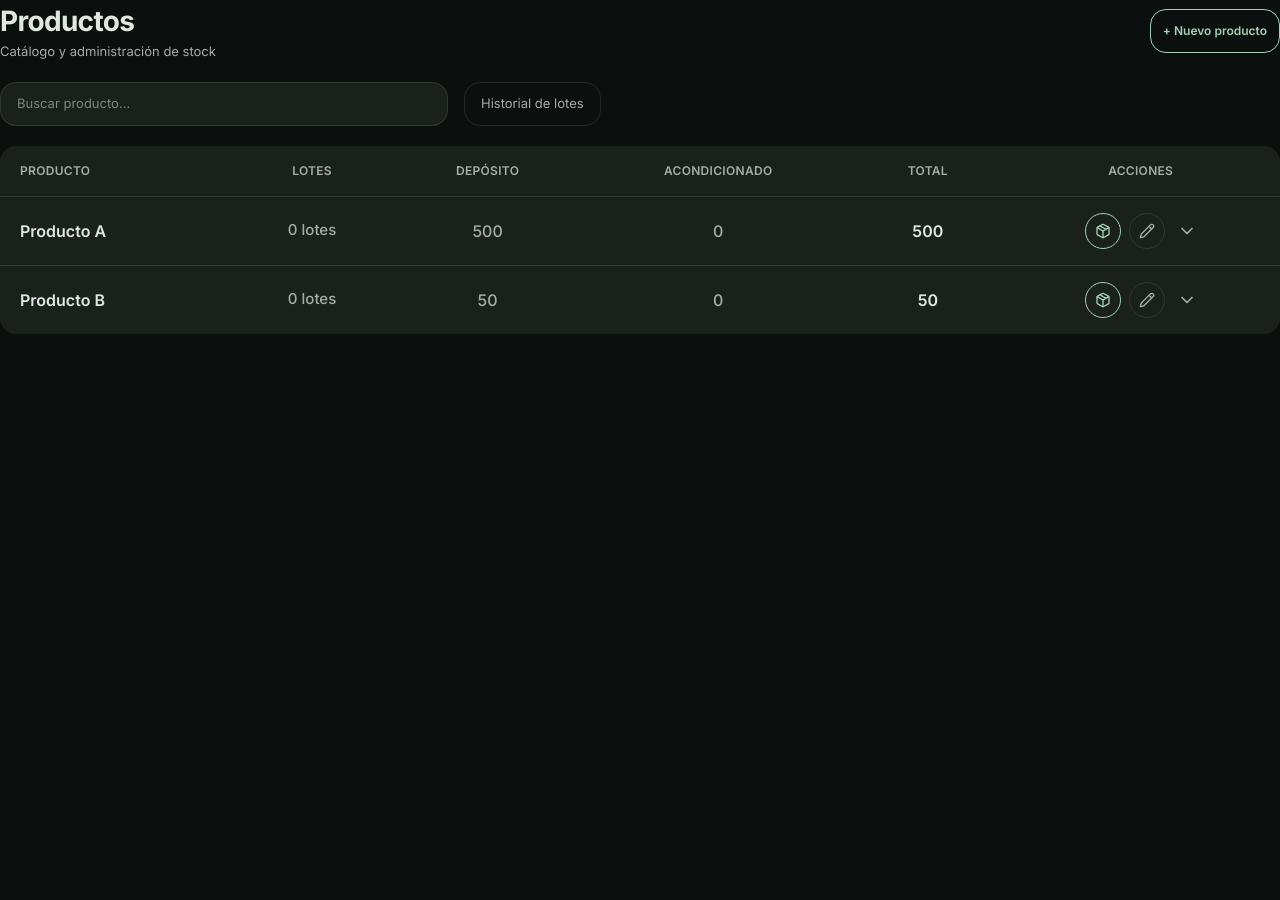
it: ProductosPage › no renderiza SKU al abrir el modal de Nuevo producto
The image size is (1280, 900).
Expected: the heading "Productos" is shown, [0, 4, 134, 38]
Click the button "+ Nuevo producto" at (1215, 31), box [1150, 9, 1279, 53]
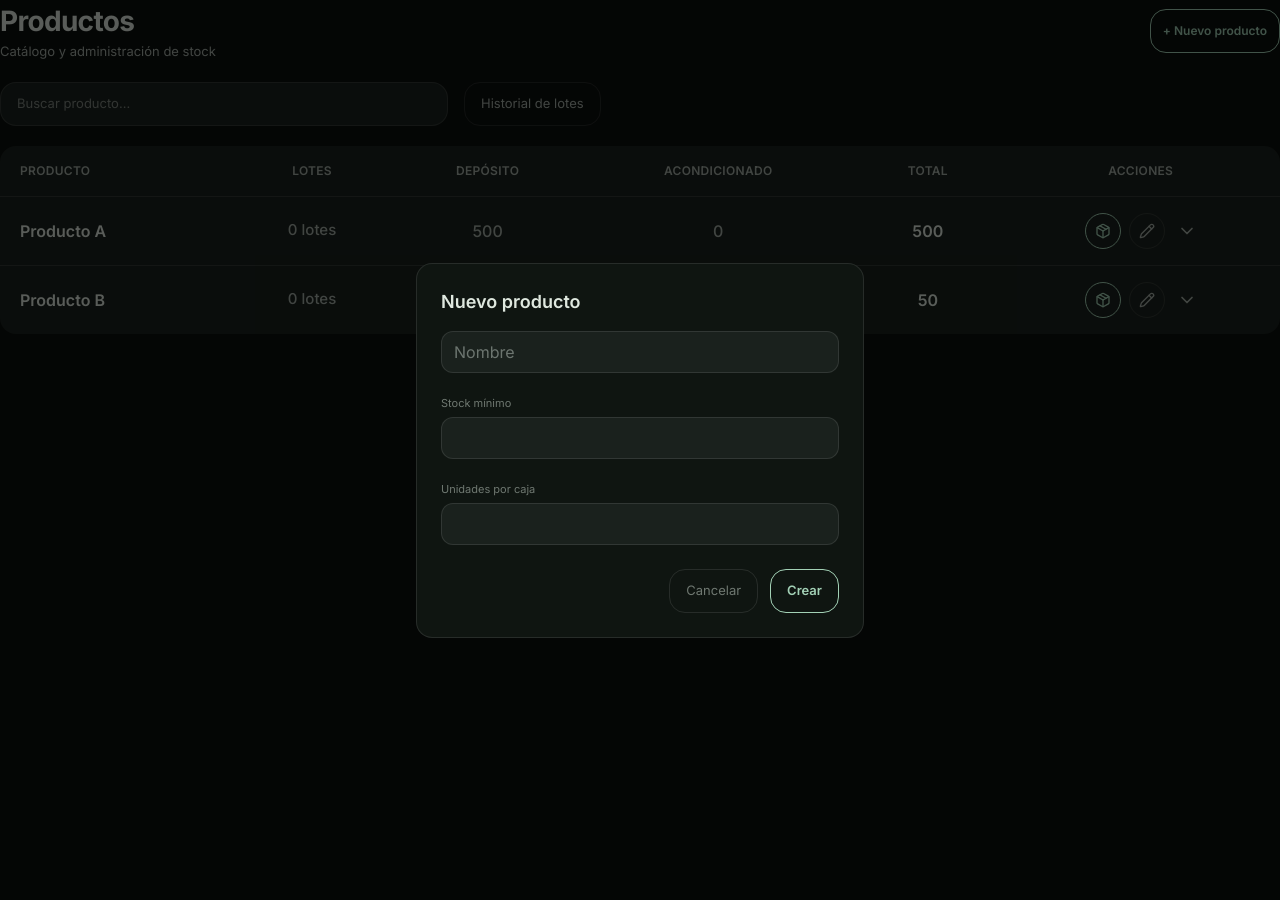
Expected: the heading "Nuevo producto" is shown, [441, 290, 581, 312]
